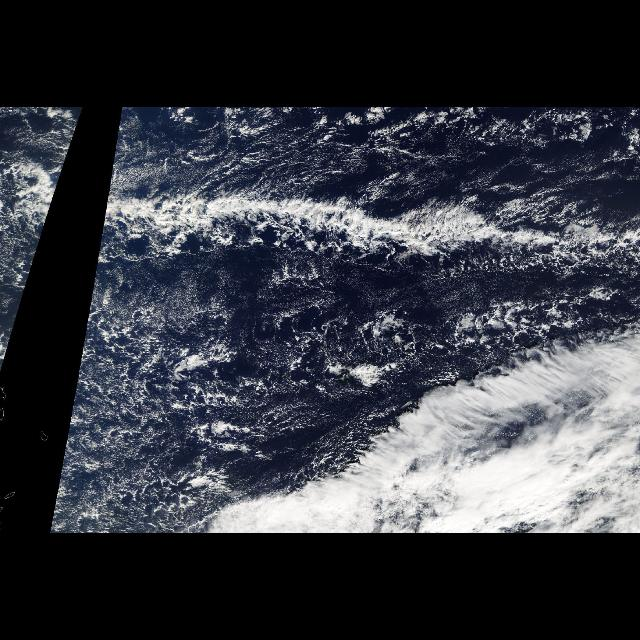Fish: (92, 166, 640, 288), (4, 166, 64, 288)
Gravel: (57, 292, 608, 530)
Sugar: (106, 237, 244, 333), (76, 392, 178, 511)
